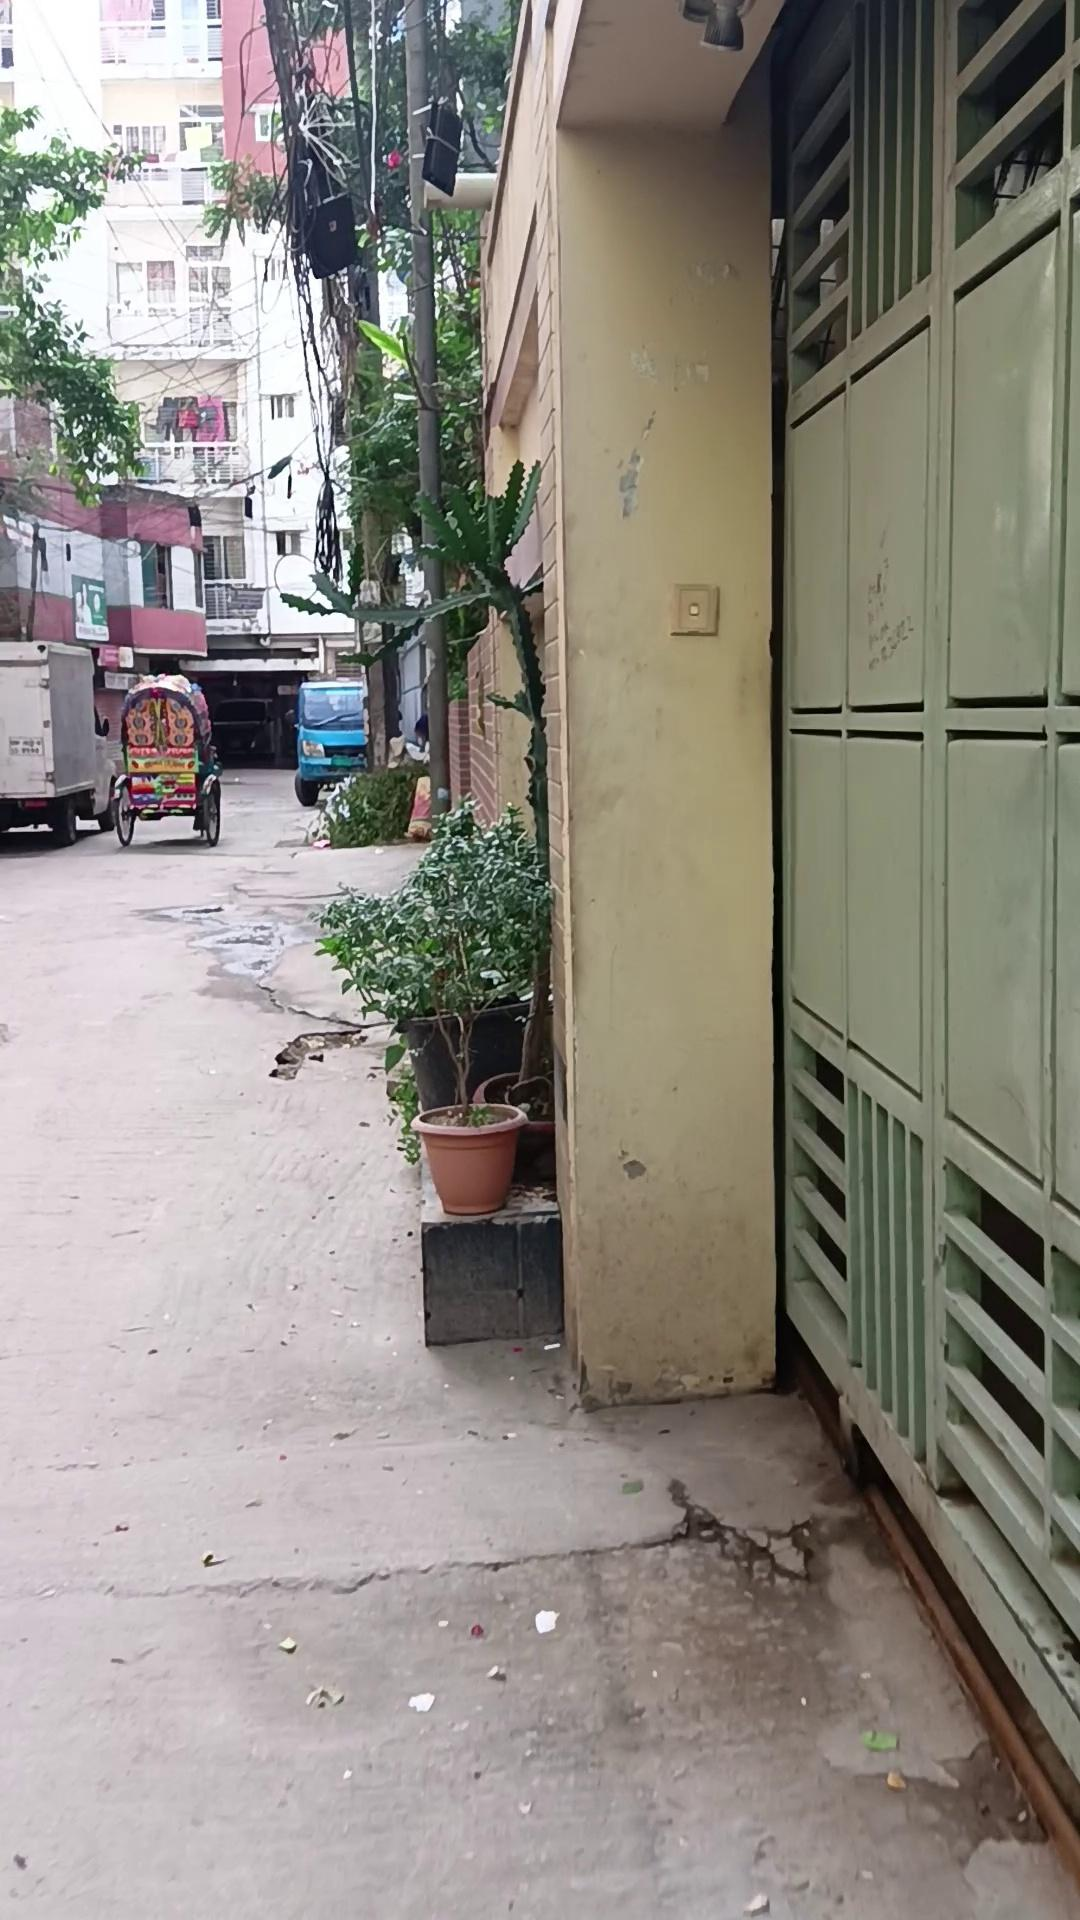Crosswalk: (418, 1182, 563, 1348)
Obstacle: (400, 1, 452, 822)
Pole: (311, 825, 550, 1226)
Pothole: (109, 673, 223, 848)
Traffic-sign: (0, 638, 116, 848), (293, 676, 368, 807)
